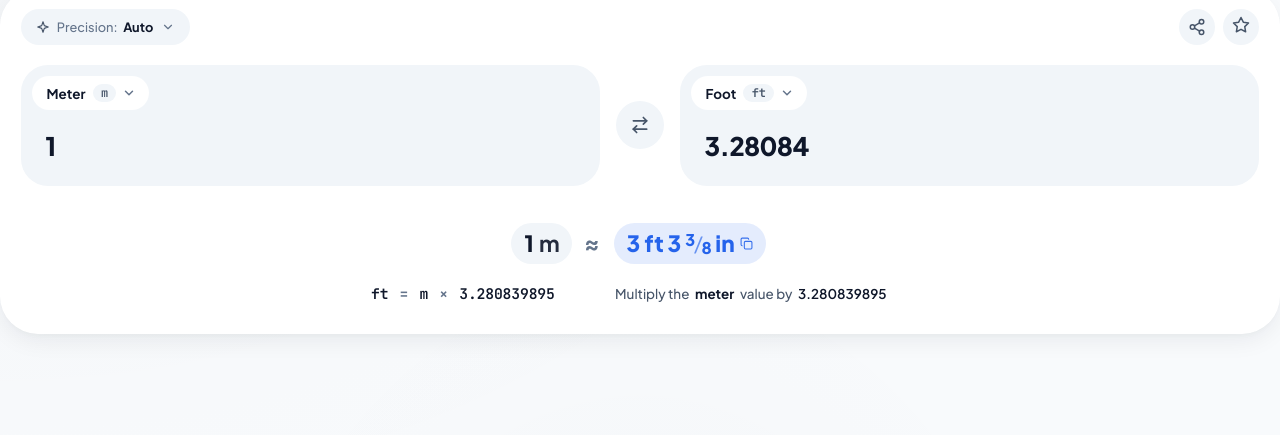
Scenario: ConversionCard Component › opens To unit dropdown, navigates with keyboard Enter and Escape
Click the button with aria-label "Target unit: Foot" at (749, 93), box [691, 76, 807, 110]
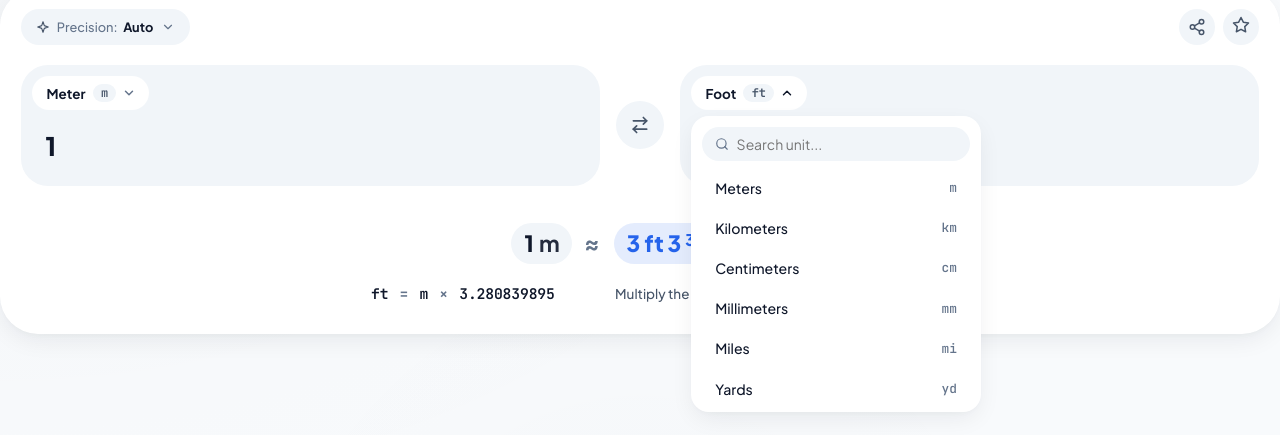
expect the button with aria-label "Target unit: Foot" is expanded: met, box [691, 76, 807, 110]
Type "inch" into the field with placeholder "Search unit..." at (847, 144), box [737, 135, 957, 153]
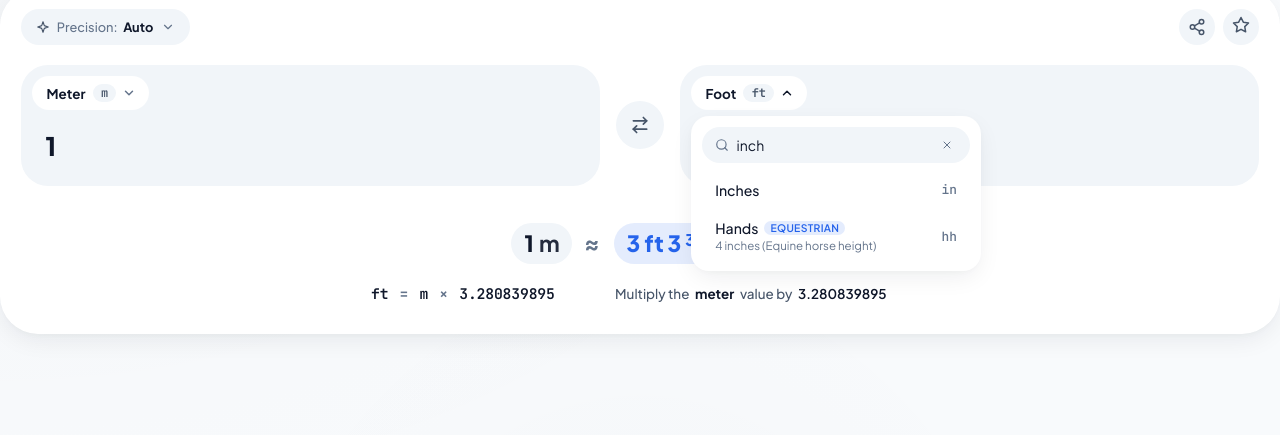
Press Enter in the field with placeholder "Search unit...", box [737, 136, 929, 154]
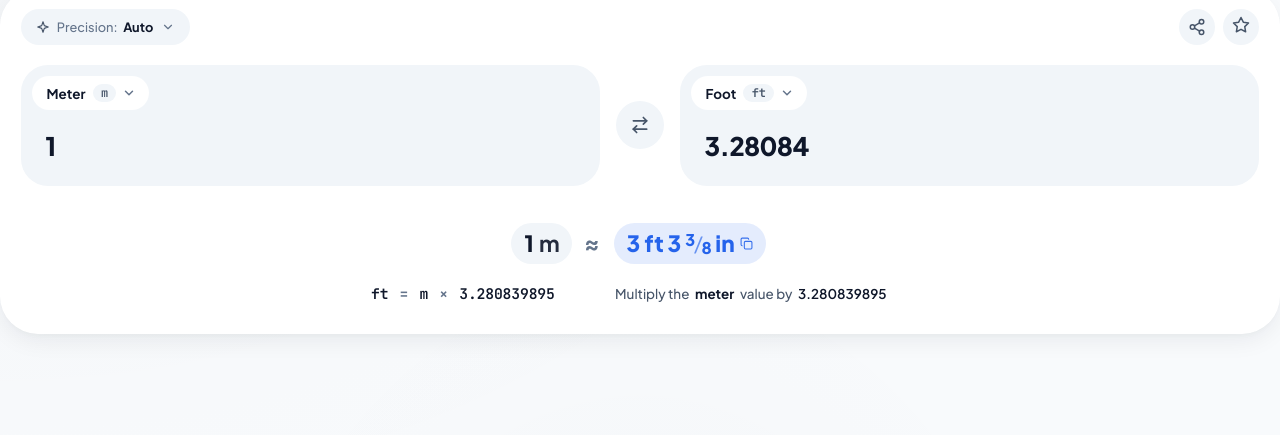
// Reopen and test Escape
Click the button with aria-label "Target unit: Foot" at (749, 93), box [691, 76, 807, 110]
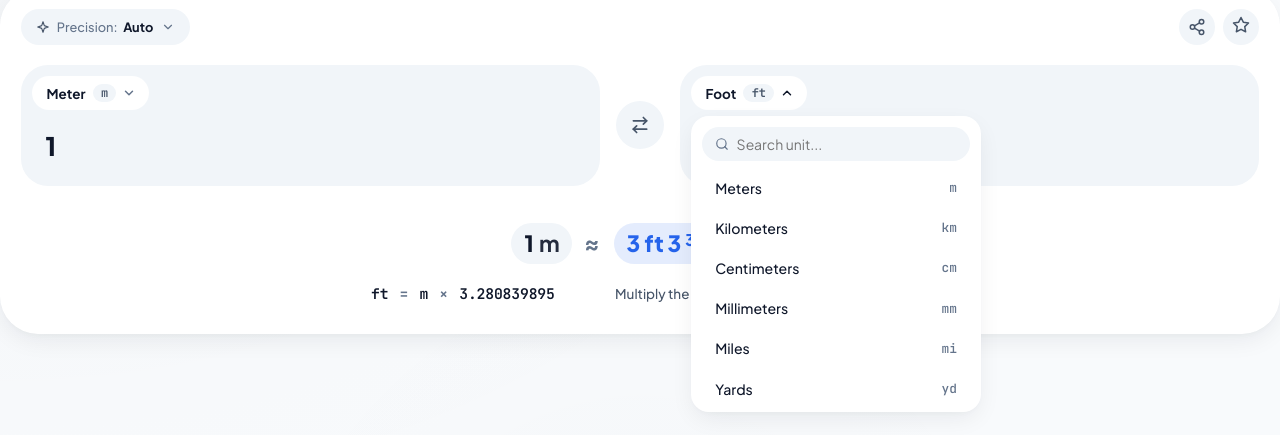
Press Escape in the field with placeholder "Search unit...", box [737, 135, 957, 153]
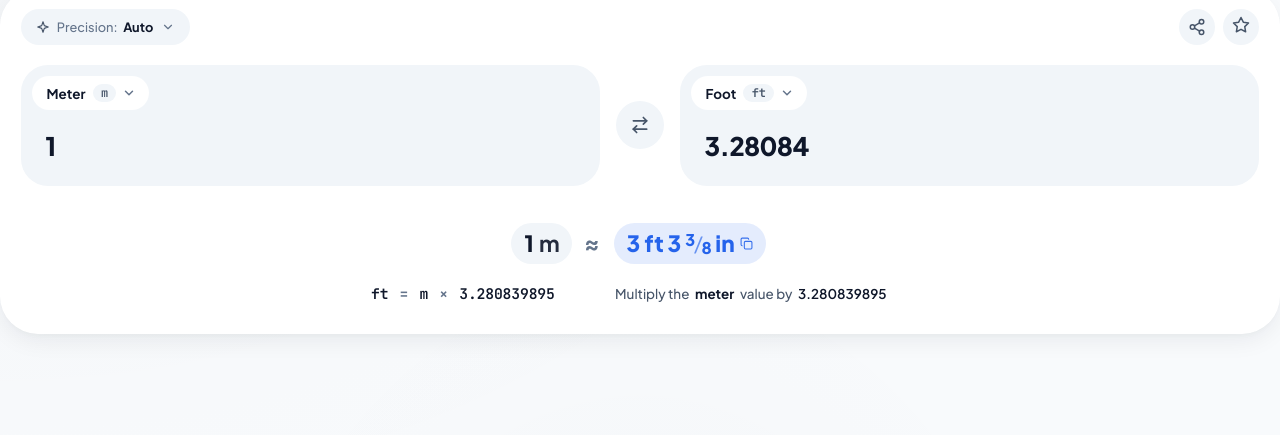
expect the button with aria-label "Target unit: Foot" is collapsed: met, box [691, 76, 807, 110]
